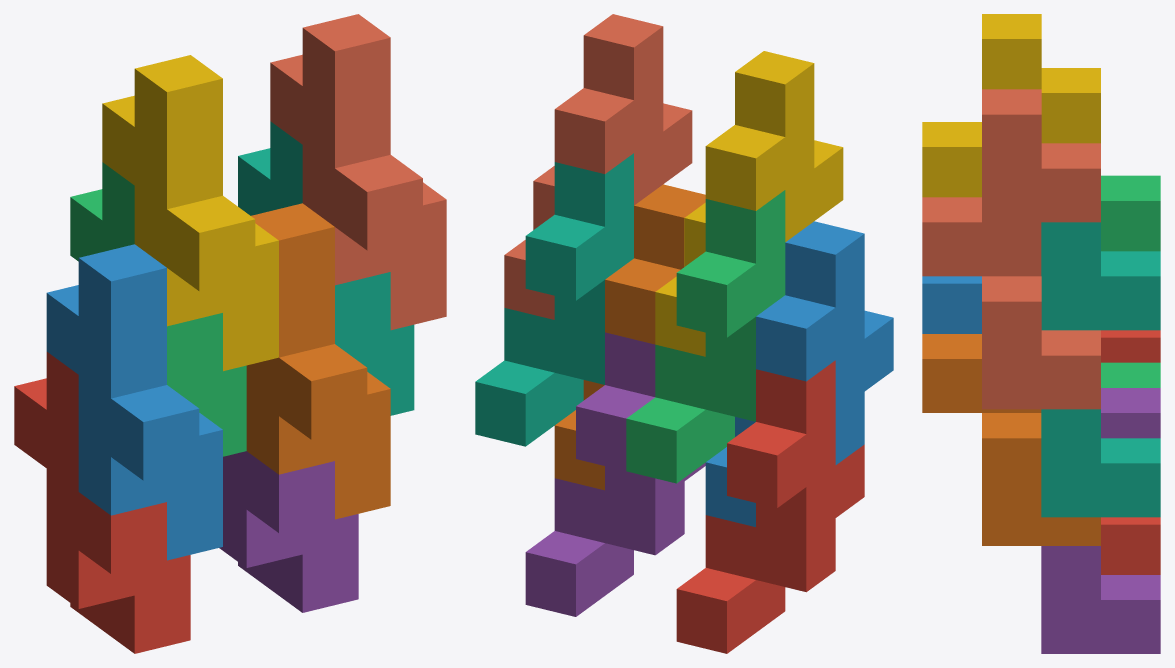
File: tiling.obj
The picture shows the model from 3 angles, left to right: view 1: azimuth 30°, elevation 25°; view 2: azimuth 150°, elevation 25°; view 3: azimuth 270°, elevation 25°; orthographic projection. The views are drawn at different scales.
Parts seen in each view (by area): view 1: copy_1_domain_2, copy_1_domain_8, copy_1_domain_4, copy_1_domain_6, copy_1_domain_1, copy_1_domain_5, copy_1_domain_3, copy_1_domain_7; view 2: copy_1_domain_1, copy_1_domain_3, copy_1_domain_7, copy_1_domain_5, copy_1_domain_2, copy_1_domain_8, copy_1_domain_4, copy_1_domain_6; view 3: copy_1_domain_8, copy_1_domain_7, copy_1_domain_6, copy_1_domain_5, copy_1_domain_4, copy_1_domain_3, copy_1_domain_1, copy_1_domain_2.
Part boxes in pixels (x1=…): copy_1_domain_2: x1=46, y1=244, x2=222, y2=560; copy_1_domain_8: x1=270, y1=14, x2=446, y2=330; copy_1_domain_4: x1=102, y1=55, x2=278, y2=371; copy_1_domain_6: x1=246, y1=203, x2=390, y2=519; copy_1_domain_1: x1=14, y1=352, x2=190, y2=653; copy_1_domain_5: x1=219, y1=451, x2=358, y2=612; copy_1_domain_3: x1=70, y1=162, x2=246, y2=456; copy_1_domain_7: x1=238, y1=121, x2=414, y2=415; copy_1_domain_1: x1=676, y1=360, x2=864, y2=653; copy_1_domain_3: x1=626, y1=190, x2=785, y2=483; copy_1_domain_7: x1=475, y1=153, x2=633, y2=446; copy_1_domain_5: x1=525, y1=332, x2=705, y2=616; copy_1_domain_2: x1=705, y1=221, x2=893, y2=526; copy_1_domain_8: x1=504, y1=14, x2=692, y2=319; copy_1_domain_4: x1=655, y1=51, x2=843, y2=356; copy_1_domain_6: x1=554, y1=184, x2=705, y2=490; copy_1_domain_8: x1=922, y1=89, x2=1100, y2=409; copy_1_domain_7: x1=1041, y1=222, x2=1160, y2=517; copy_1_domain_6: x1=922, y1=334, x2=1100, y2=545; copy_1_domain_5: x1=1041, y1=388, x2=1160, y2=653; copy_1_domain_4: x1=922, y1=14, x2=1100, y2=197; copy_1_domain_3: x1=1101, y1=175, x2=1160, y2=387; copy_1_domain_1: x1=1101, y1=330, x2=1160, y2=574; copy_1_domain_2: x1=922, y1=276, x2=981, y2=333.
Size of the model in its own units: 6 by 10 by 4.
